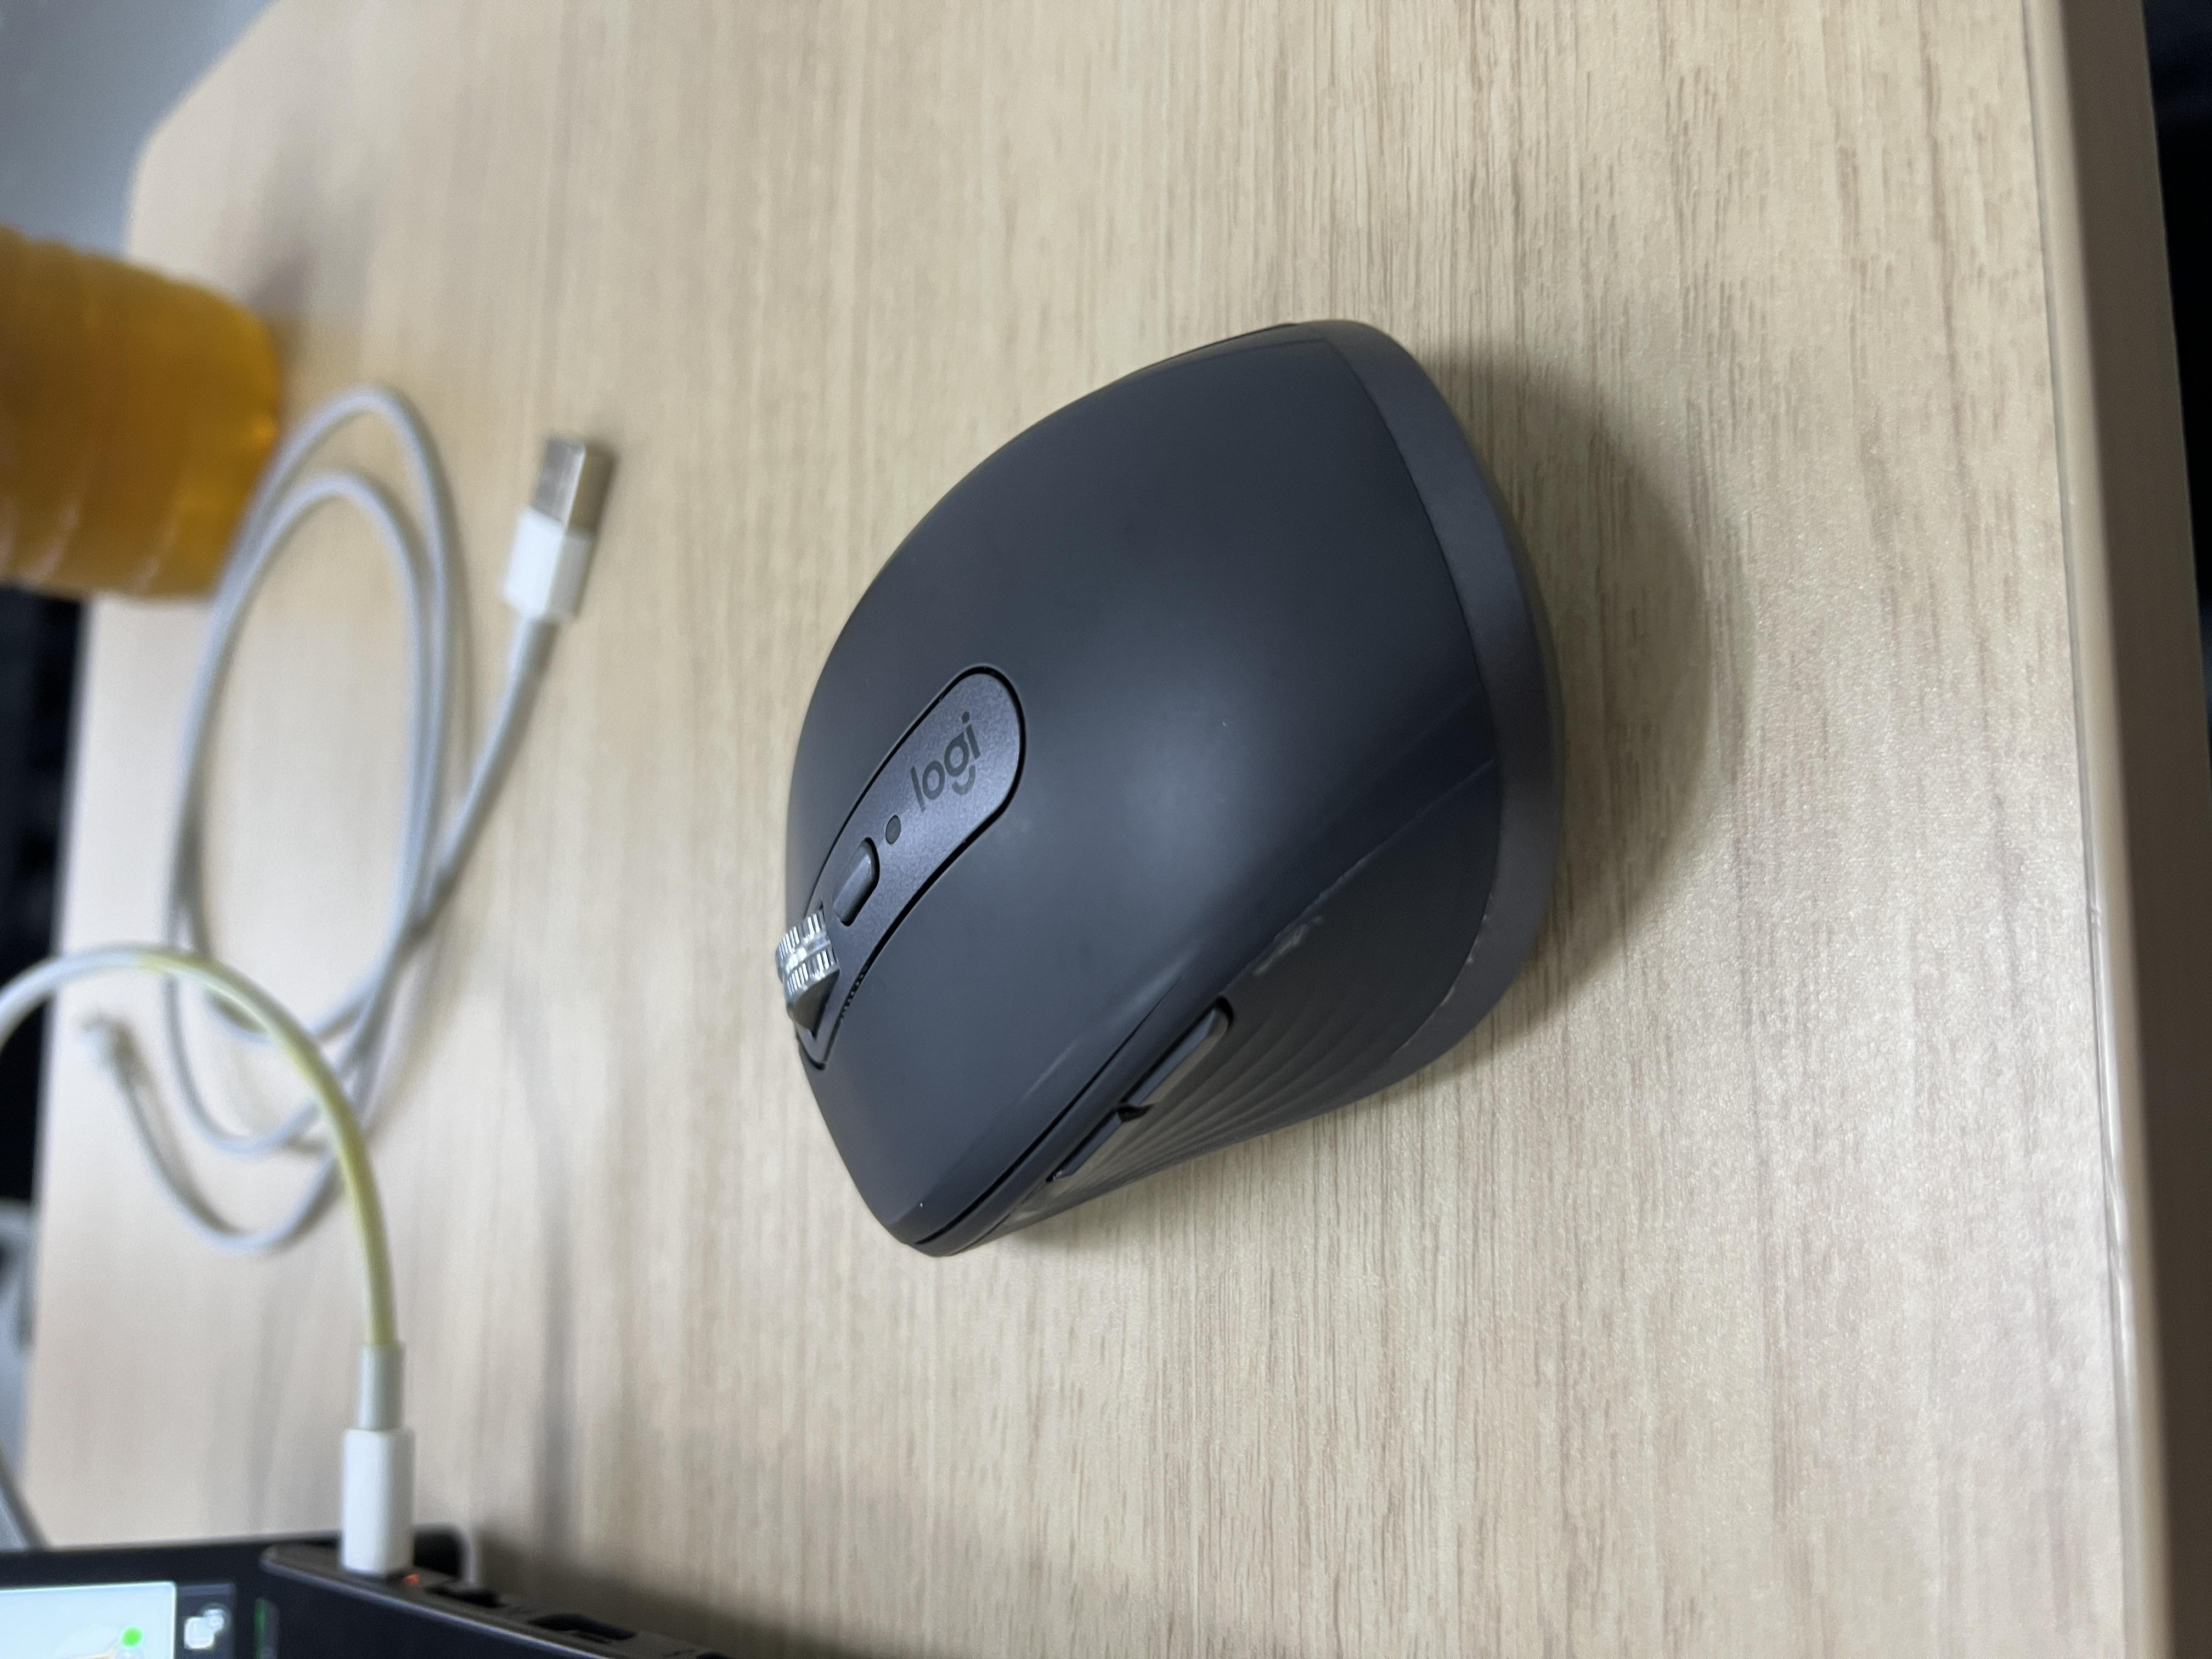mouse: (484, 552, 1836, 1234)
